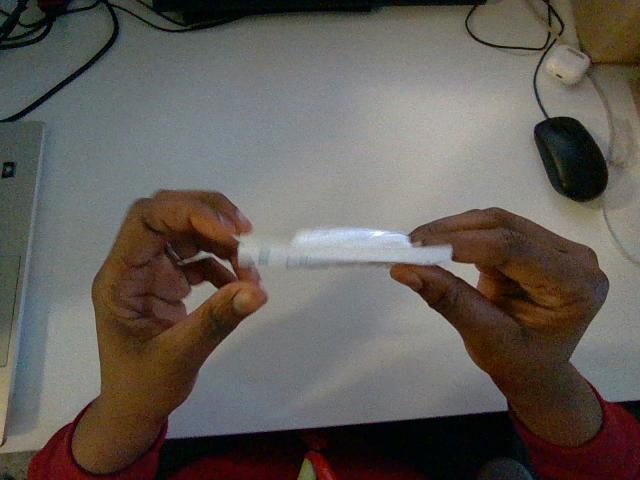gauze: (238, 228, 451, 268)
